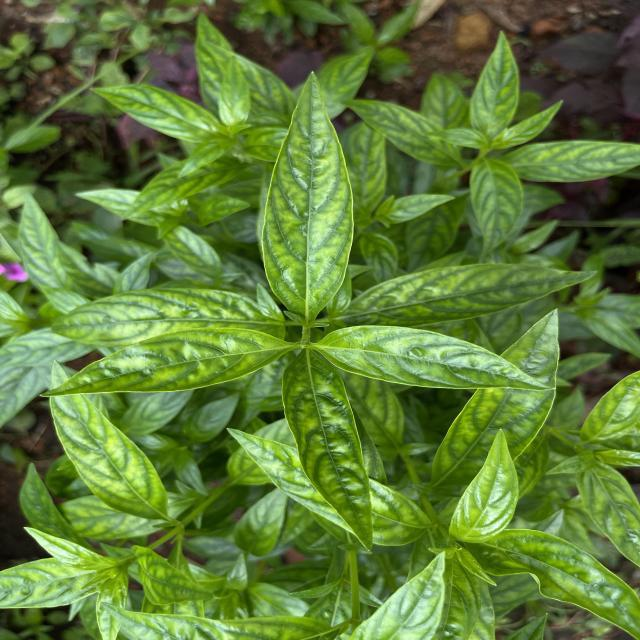Andrographis paniculata: (426, 308, 566, 492), (260, 70, 358, 323), (45, 359, 172, 522), (39, 324, 290, 402), (280, 354, 375, 554), (350, 262, 602, 331), (316, 324, 558, 394), (48, 287, 284, 346), (446, 427, 522, 546), (339, 98, 462, 167), (120, 158, 248, 224), (88, 82, 215, 144), (574, 464, 640, 571), (509, 137, 640, 185), (467, 28, 522, 140), (466, 155, 524, 260)
